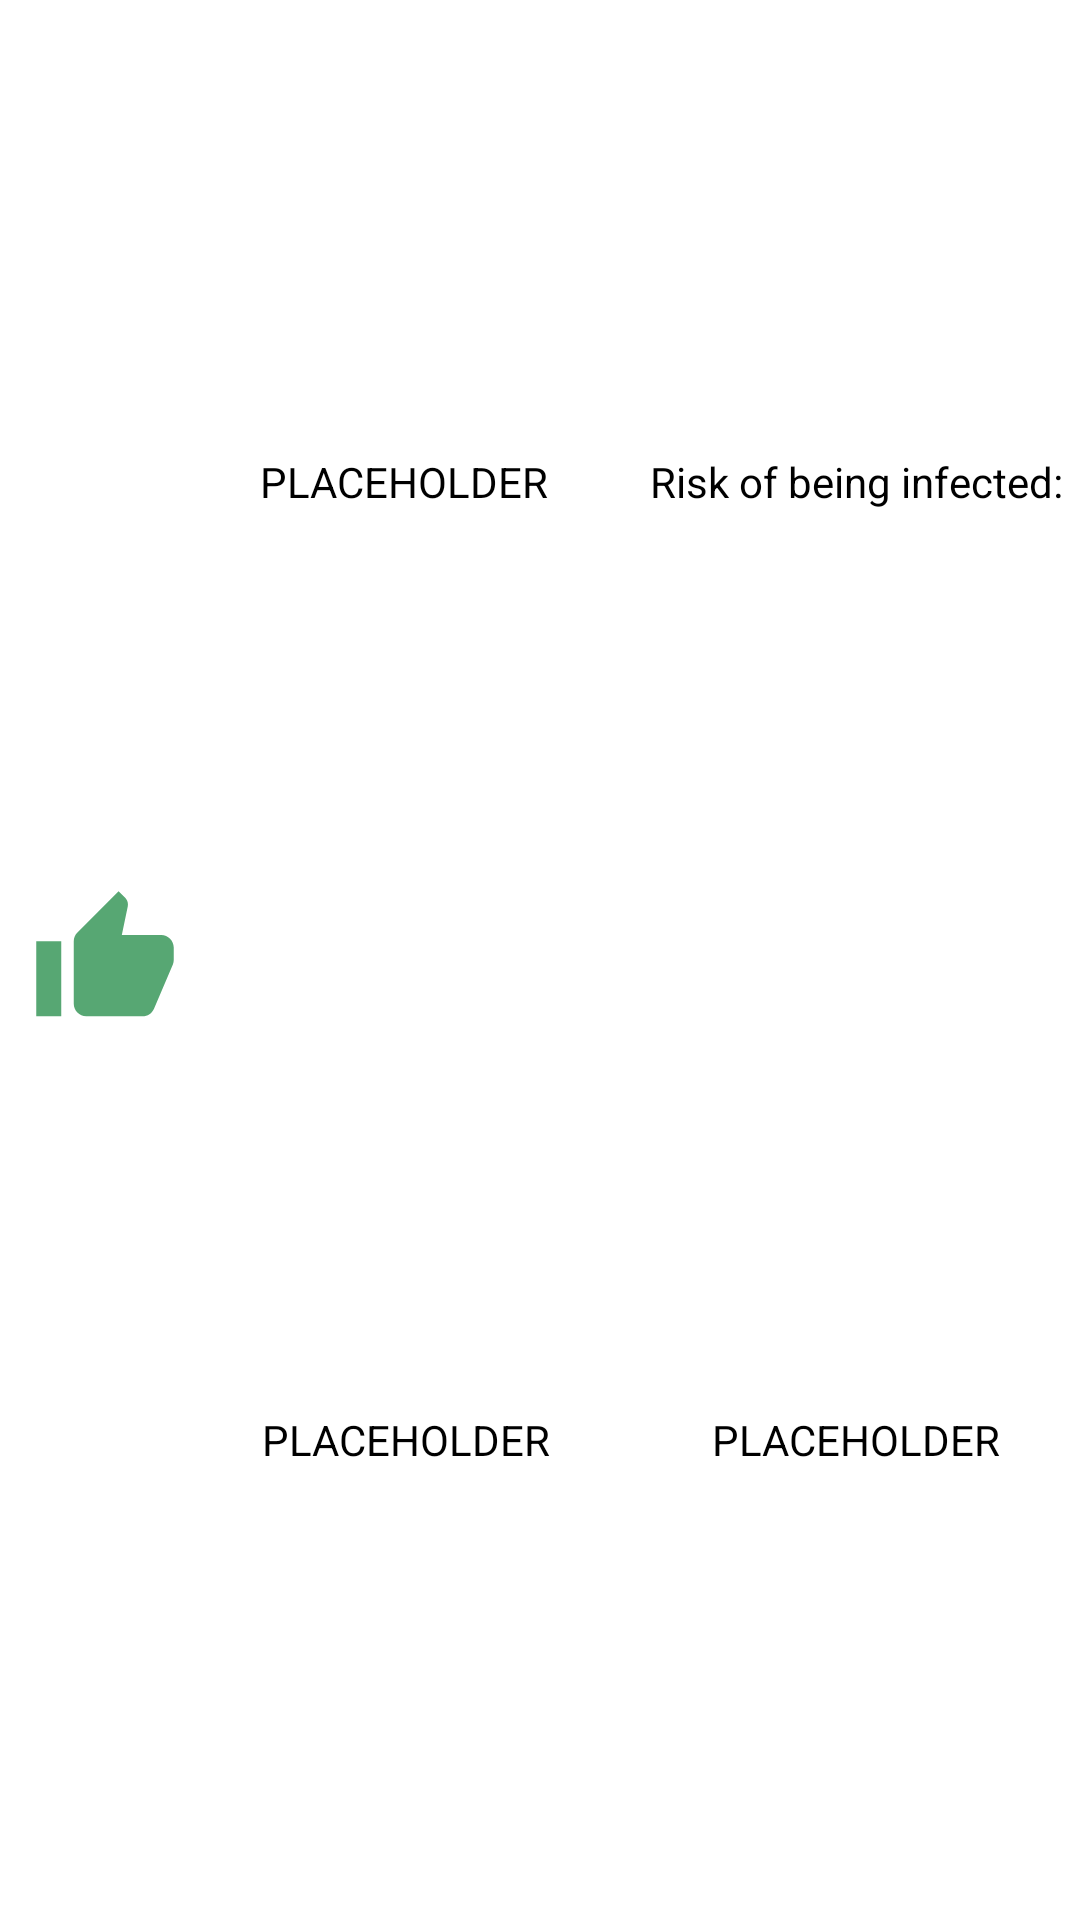

Screen size 1080px×1920px. Icon name, then its box in pixels as (x1, y1, x2, y2):
Image representing the user's mood: (36, 891, 174, 1017)
